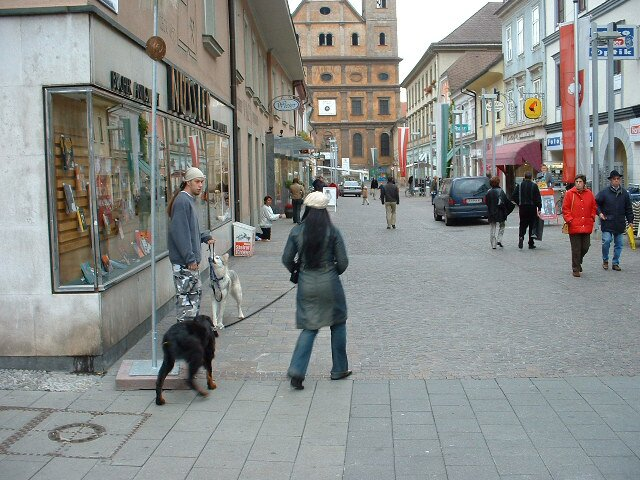person: (282, 187, 361, 391), (167, 163, 223, 355), (559, 173, 605, 279), (598, 167, 638, 275), (512, 170, 553, 250), (480, 176, 519, 248), (374, 173, 407, 232)
